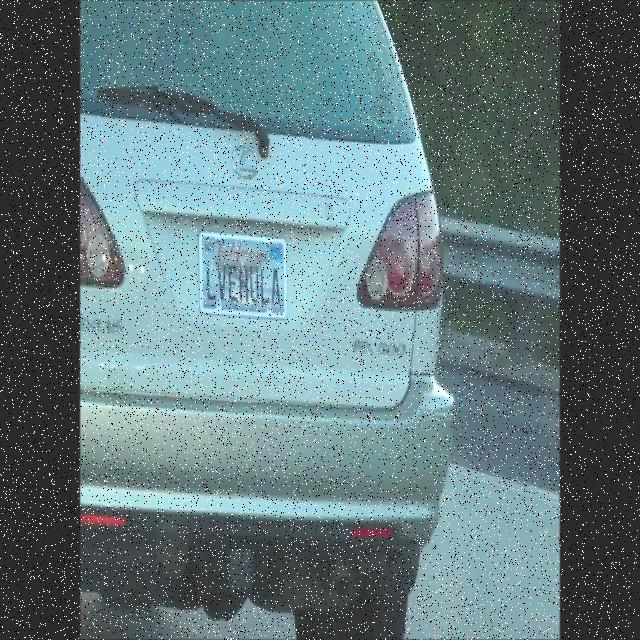licenseplate: (197, 232, 288, 321)
